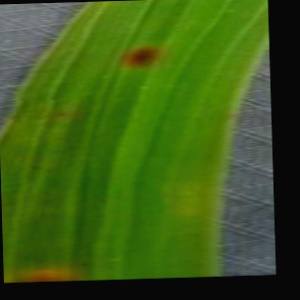Bacterial_Leaf_Blight: (114, 40, 165, 73), (53, 106, 69, 120), (29, 161, 45, 172), (78, 260, 91, 270), (48, 95, 62, 103)
